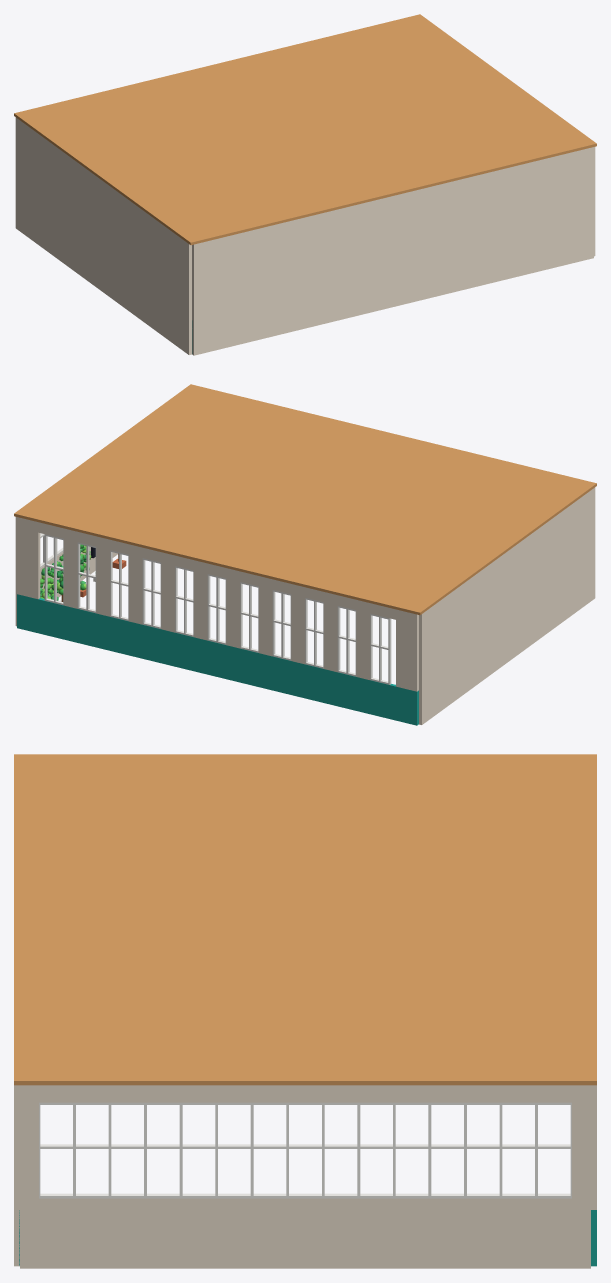
The model's file is hall.glb.
3 views of the same model, one above another, from view 1: azimuth 30°, elevation 25°; view 2: azimuth 150°, elevation 25°; view 3: azimuth 270°, elevation 25° (orthographic). The views are drawn at different scales.
Visible parts, largest first — view 1: hall; view 2: hall, leaves; view 3: hall.
Boxes of the visible parts, left/top/right/bottom form: hall: left=14, top=14, right=596, bottom=355; hall: left=14, top=384, right=596, bottom=725; leaves: left=40, top=544, right=91, bottom=600; hall: left=14, top=754, right=596, bottom=1268.
Bounding box in the file's own units: 65 × 17.4 × 49.
